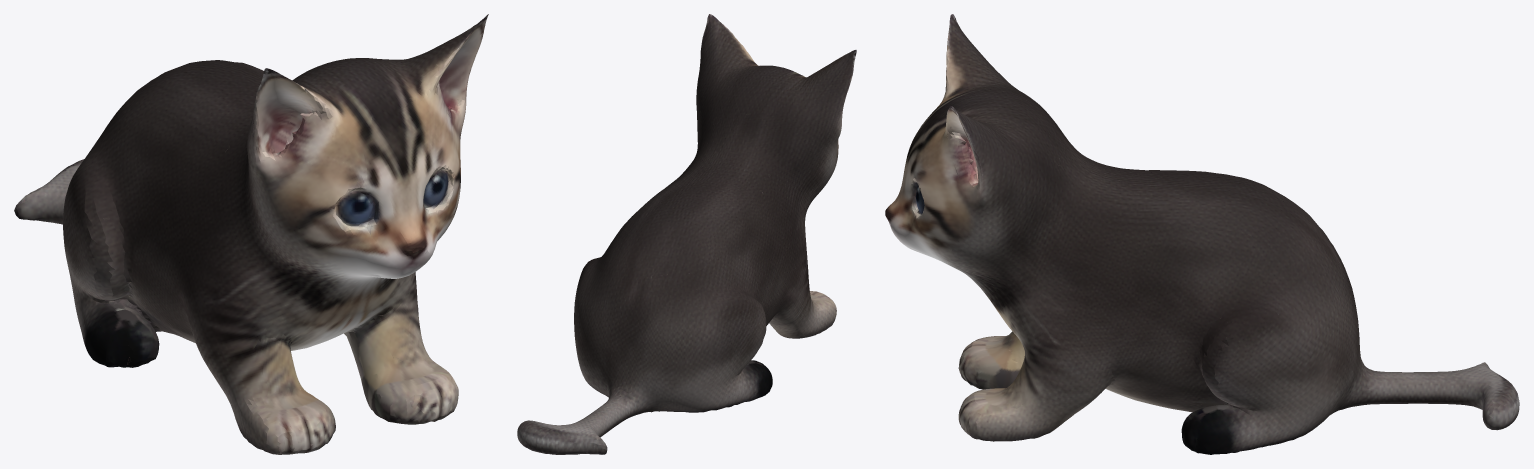
File: kitten.glb
The picture shows the model from 3 angles, left to right: view 1: azimuth 30°, elevation 25°; view 2: azimuth 150°, elevation 25°; view 3: azimuth 270°, elevation 25°; orthographic projection. The views are drawn at different scales.
Parts seen in each view (by area): view 1: model; view 2: model; view 3: model.
Boxes of the visible parts, x1,y1,x2,y2 form: model: (14,14,488,454); model: (517,14,856,454); model: (885,14,1519,454).
Size of the model in its own units: 0.7671 by 1.12 by 1.89.
Materials: 1 (1 with a texture image).
